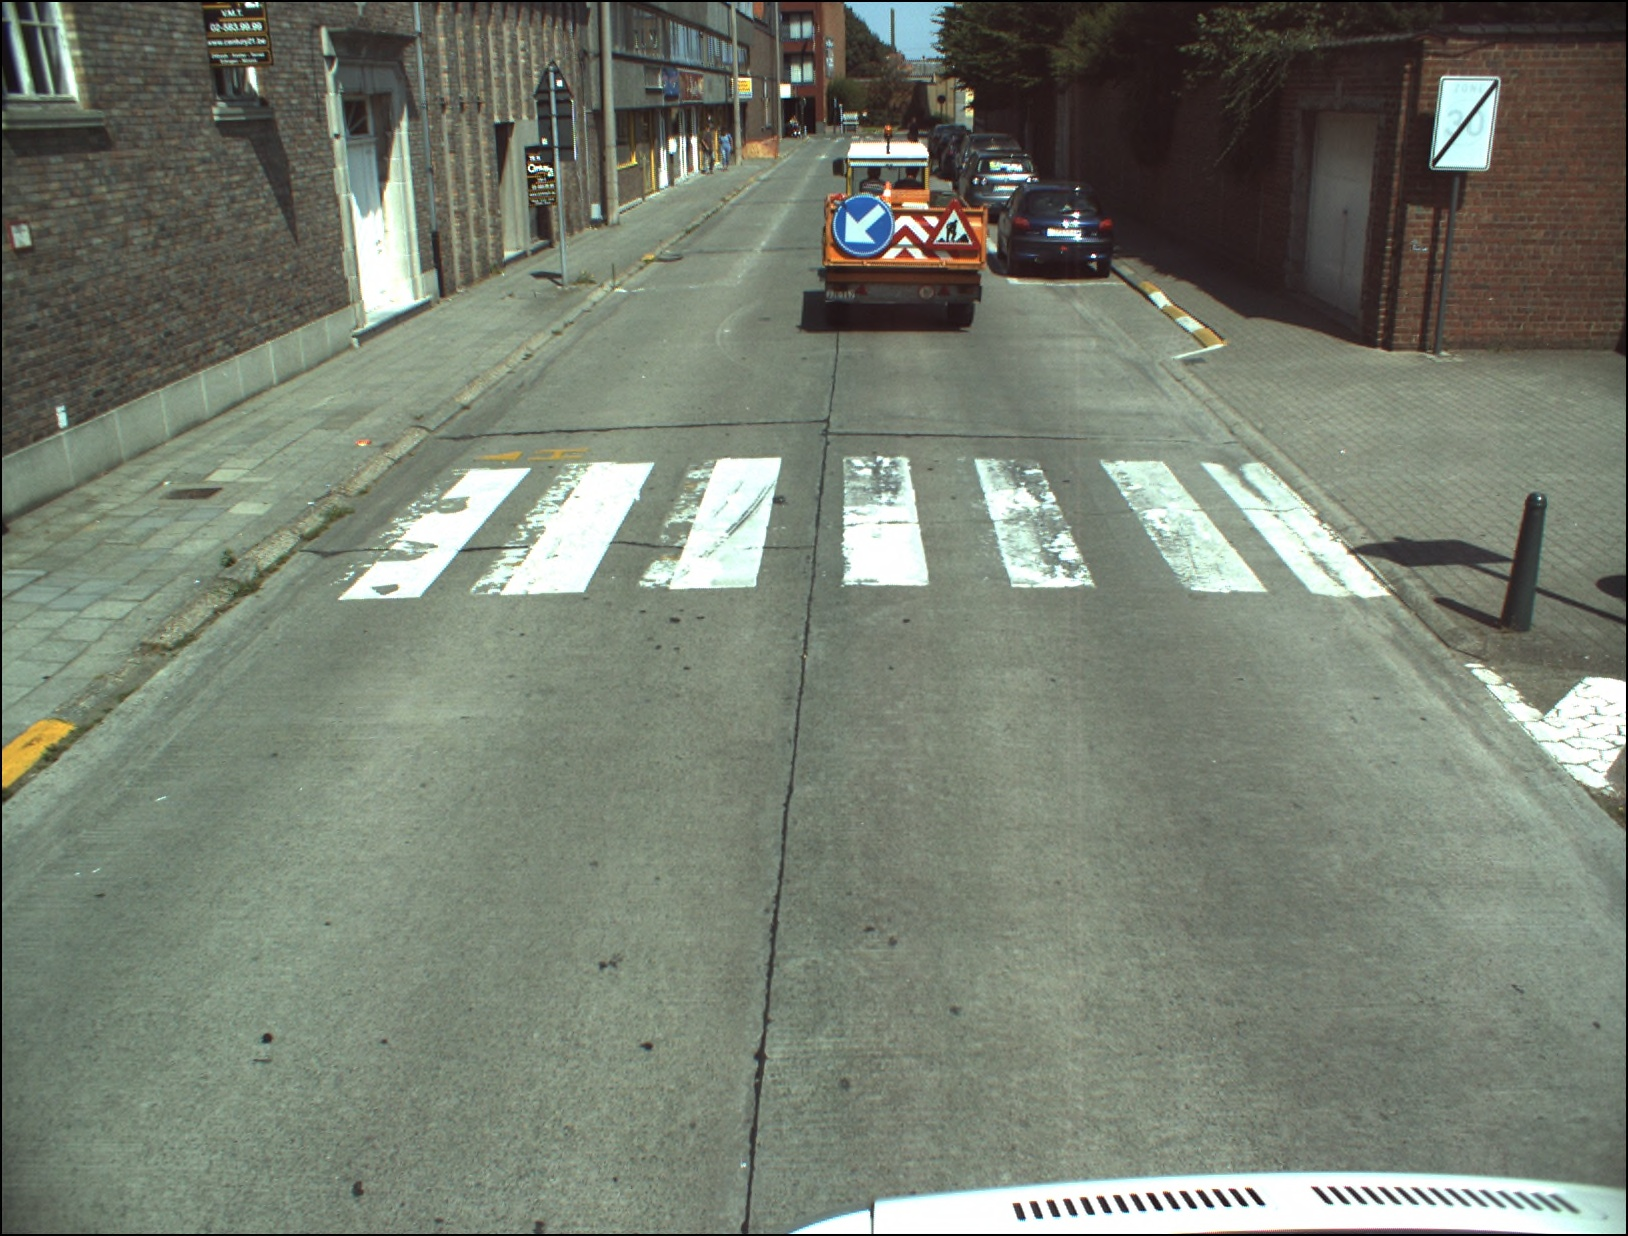construction: (924, 200, 980, 248)
passleft: (832, 196, 894, 258)
